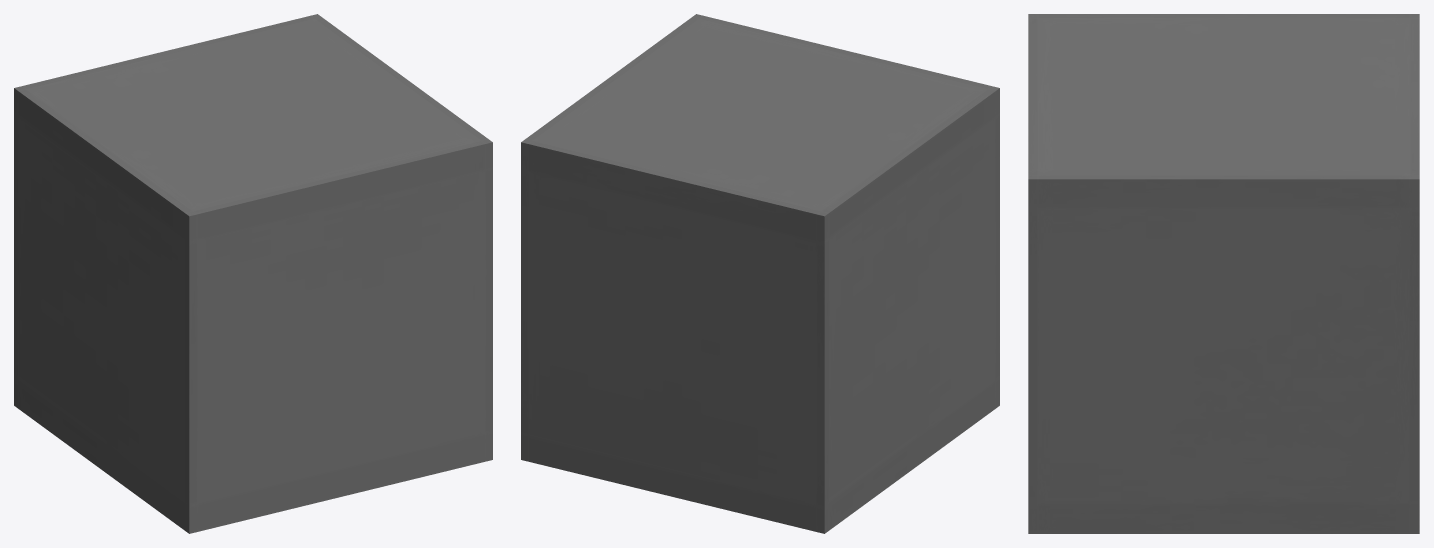
3 renders of one model, left to right at view 1: azimuth 30°, elevation 25°; view 2: azimuth 150°, elevation 25°; view 3: azimuth 270°, elevation 25°, orthographic. The views are drawn at different scales.
Parts seen in each view (by area): view 1: MAT_ScalableMesh_02; view 2: MAT_ScalableMesh_02; view 3: MAT_ScalableMesh_02.
Boxes of the visible parts, x1,y1,x2,y2 form: MAT_ScalableMesh_02: (14,14,492,533); MAT_ScalableMesh_02: (521,14,999,533); MAT_ScalableMesh_02: (1028,14,1419,533).
Bounding box in the file's own units: 1 × 1 × 1.
1 material, 1 textured.
